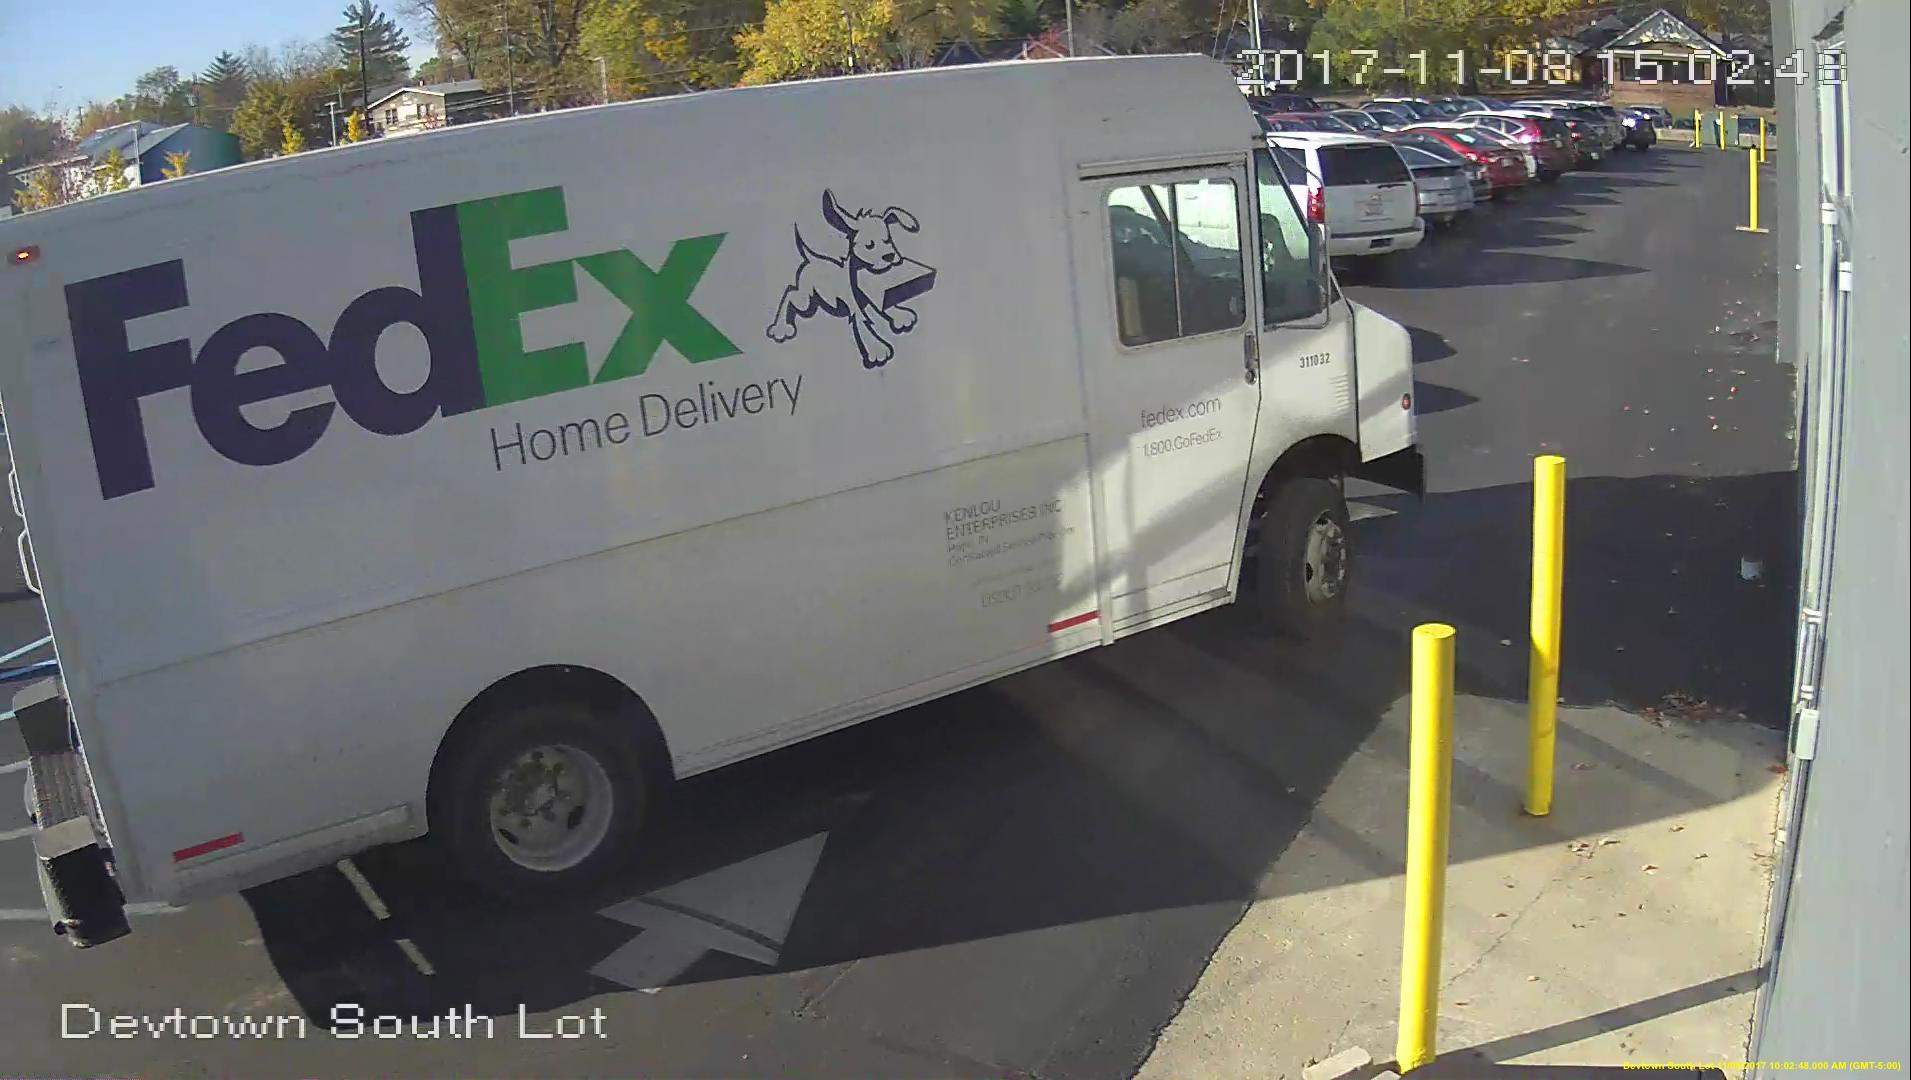fedex_truck: (5, 51, 1435, 961)
